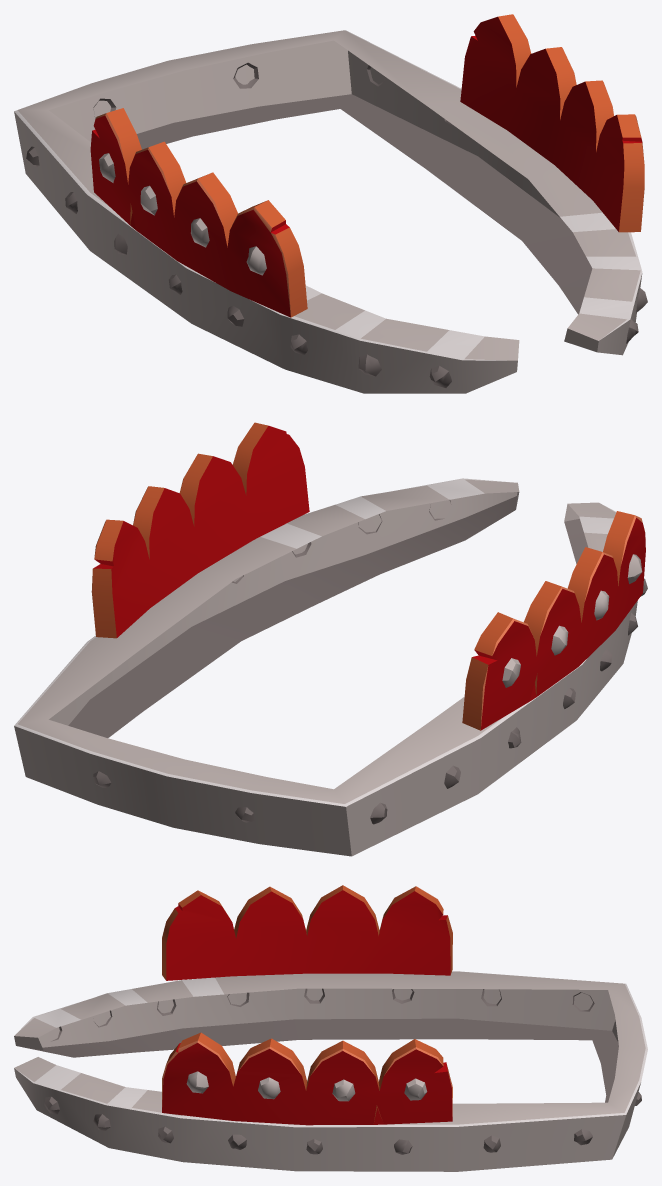
Rendered from Armor_Small.fbx.
3 renders of one model, top to bottom at view 1: azimuth 30°, elevation 25°; view 2: azimuth 150°, elevation 25°; view 3: azimuth 270°, elevation 25°, orthographic. The views are drawn at different scales.
Parts seen in each view (by area): view 1: Armor_Color_04, Armor_Color_01, Armor_Color_02, Armor_Color_03; view 2: Armor_Color_04, Armor_Color_02, Armor_Color_01, Armor_Color_03; view 3: Armor_Color_04, Armor_Color_01, Armor_Color_02, Armor_Color_03.
Boxes of the visible parts, x1,y1,x2,y2 form: Armor_Color_04: [14, 30, 642, 393]; Armor_Color_01: [90, 108, 307, 317]; Armor_Color_02: [460, 14, 644, 232]; Armor_Color_03: [26, 62, 647, 387]; Armor_Color_04: [14, 478, 637, 856]; Armor_Color_02: [91, 422, 309, 638]; Armor_Color_01: [462, 511, 645, 730]; Armor_Color_03: [93, 500, 647, 824]; Armor_Color_04: [14, 971, 647, 1171]; Armor_Color_01: [162, 885, 452, 980]; Armor_Color_02: [162, 1032, 452, 1125]; Armor_Color_03: [44, 988, 641, 1154].
Size of the model in its own units: 14.27 by 5.23 by 22.85.
